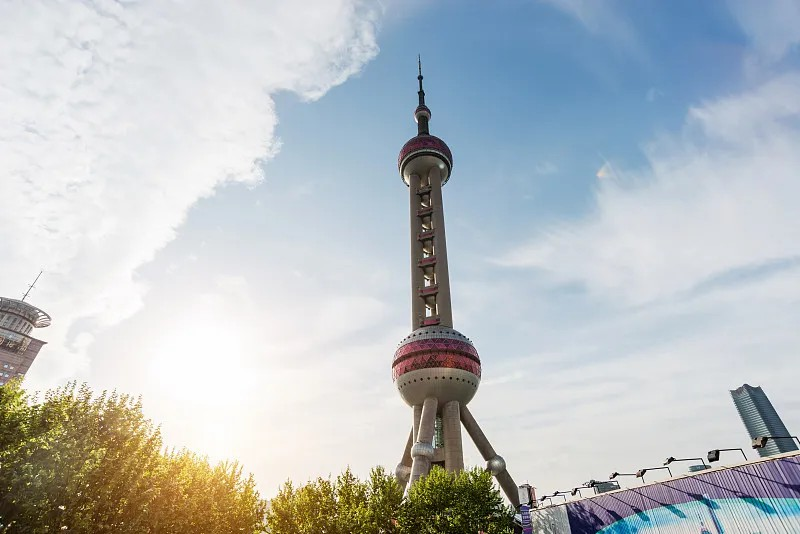Oriental: (392, 53, 521, 510)
